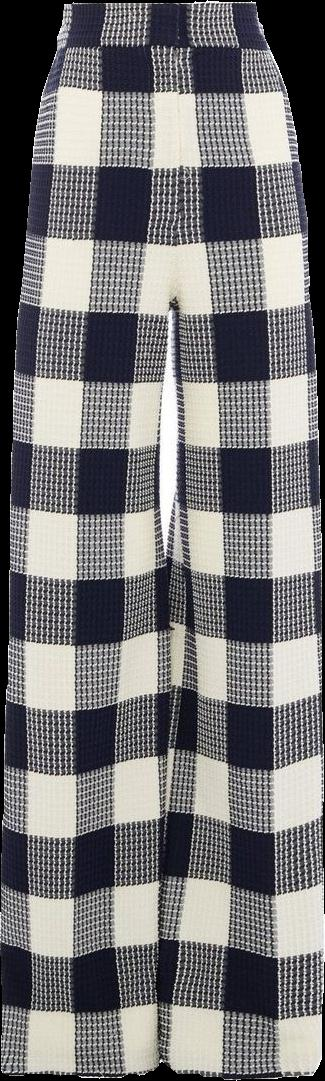Hemline: (0, 1055, 171, 1080), (163, 1057, 324, 1079)
Pantleg: (2, 0, 172, 1079), (162, 0, 323, 1080)
Waistline: (53, 34, 267, 53), (62, 0, 260, 19)
